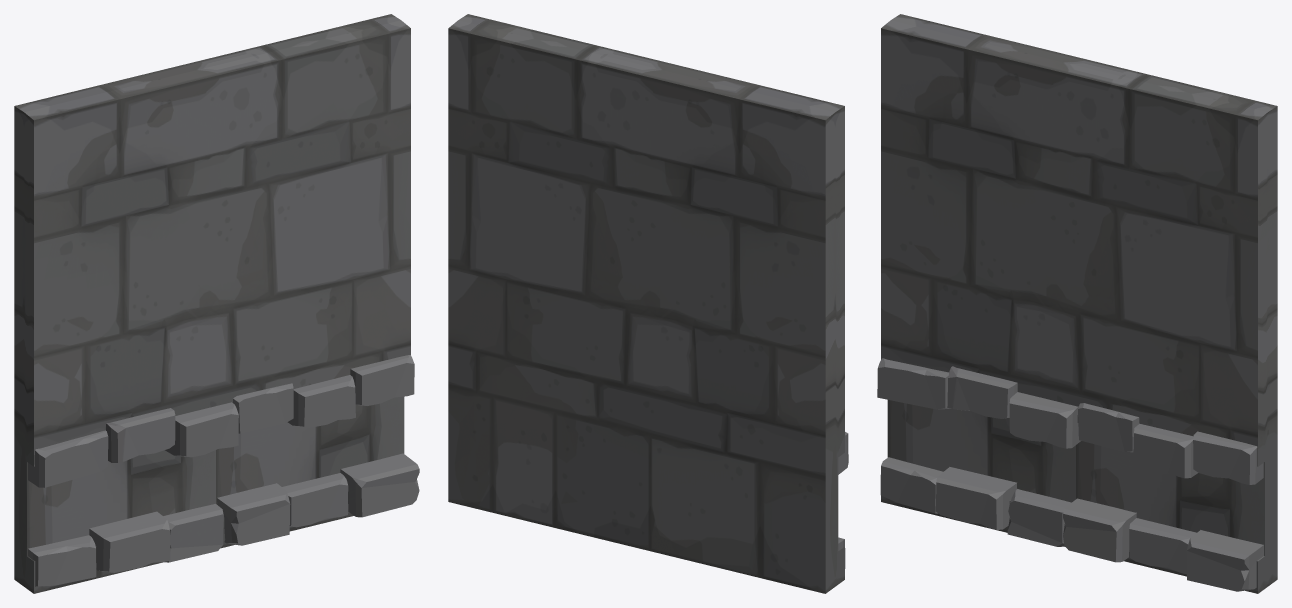
The model's file is wall_a.gltf.
3 views of the same model, side by side, from view 1: azimuth 30°, elevation 25°; view 2: azimuth 150°, elevation 25°; view 3: azimuth 330°, elevation 25° (orthographic).
Visible parts, largest first — view 1: wall_a; view 2: wall_a; view 3: wall_a.
Boxes of the visible parts, <box> form: wall_a: <box>14,14,419,593</box>; wall_a: <box>448,14,848,593</box>; wall_a: <box>877,14,1277,593</box>.
Bounding box in the file's own units: 2.5 × 3.01 × 0.3608.
1 material, 1 textured.
